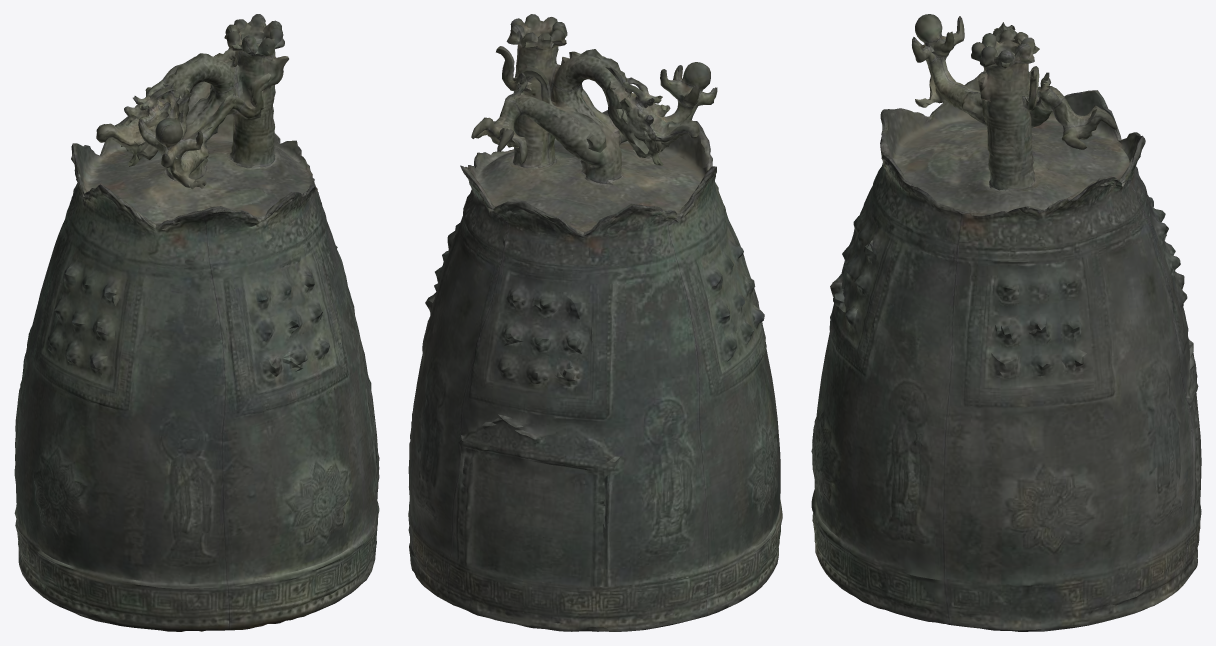
The model's file is bell.glb.
The picture shows the model from 3 angles, left to right: view 1: azimuth 30°, elevation 25°; view 2: azimuth 150°, elevation 25°; view 3: azimuth 270°, elevation 25°; orthographic projection. The views are drawn at different scales.
Parts seen in each view (by area): view 1: duk000286_000_30000; view 2: duk000286_000_30000; view 3: duk000286_000_30000.
Boxes of the visible parts, left/top/right/bottom form: duk000286_000_30000: left=14, top=14, right=379, bottom=631; duk000286_000_30000: left=408, top=14, right=782, bottom=631; duk000286_000_30000: left=811, top=14, right=1201, bottom=631.
Bounding box in the file's own units: 193 × 299 × 194.
1 material, 1 textured.
